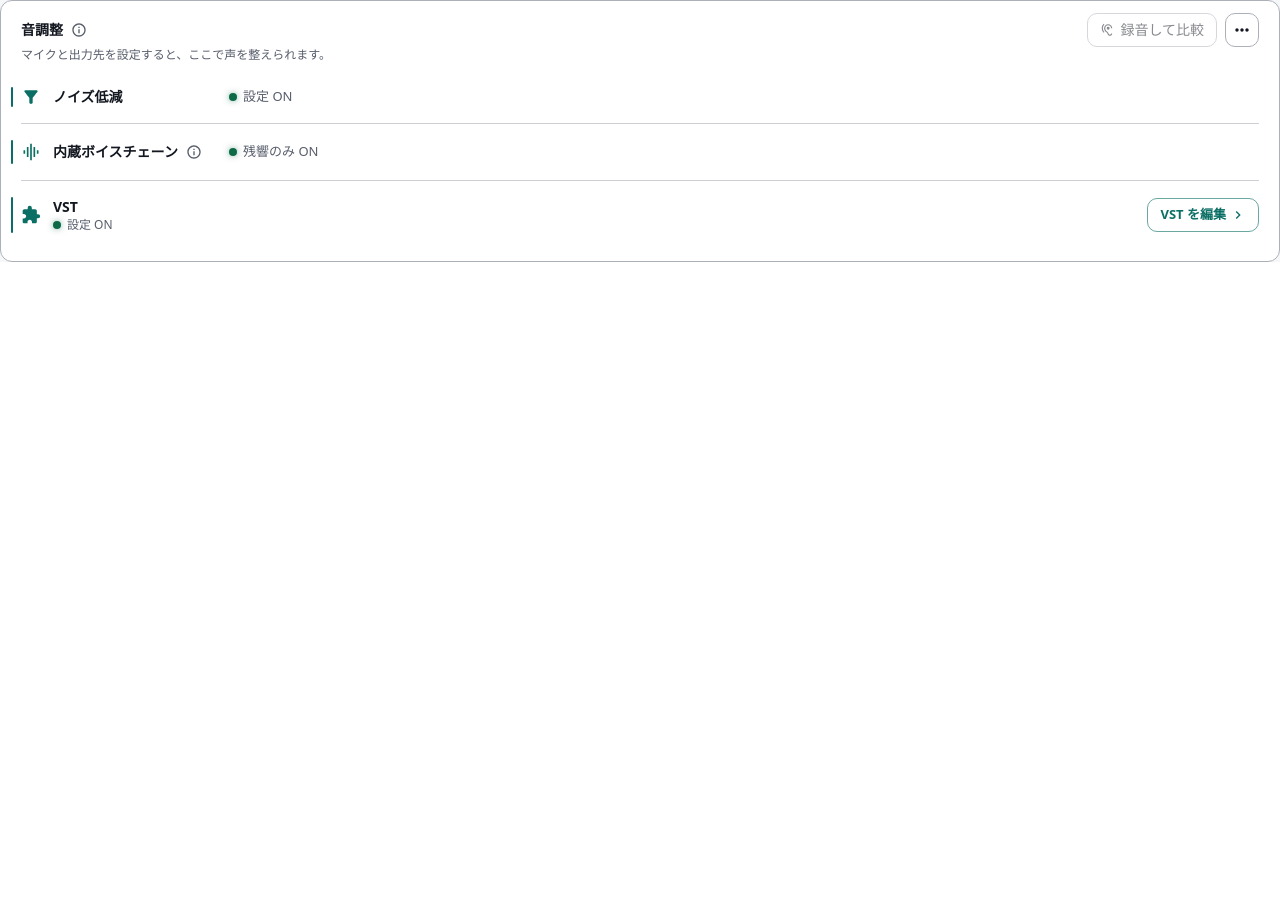
Test: 声の処理を音の流れの順に行カードで並べ、操作できない間は各段の設定状態を表示する (ja)
The image size is (1280, 900).
Expected: the number of list items is 3, [21,71,1259,124]; [21,124,1259,181]; [21,197,1259,233]
Expected: the list item "ノイズ低減 設定 ON" is shown, [21,71,1259,124]
Click the button named "音の流れについて" at (79, 30), box [67,18,91,42]
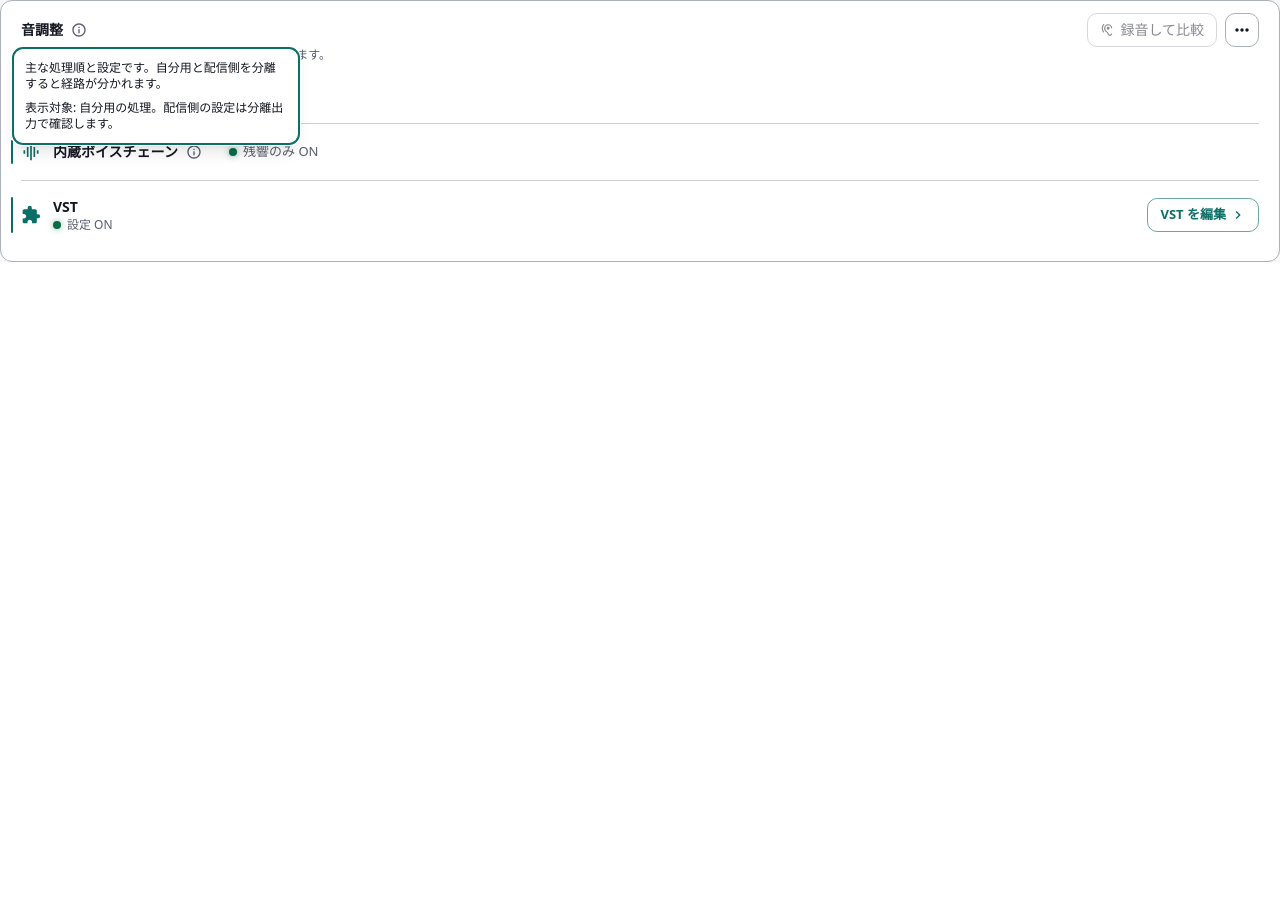
Expected: the dialog shows "主な処理順と設定です。自分用と配信側を分離すると経路が分かれます。", [25,59,276,92]
Expected: the dialog shows "表示対象: 自分用の処理。配信側の設定は分離出力で確認します。", [25,99,283,132]
